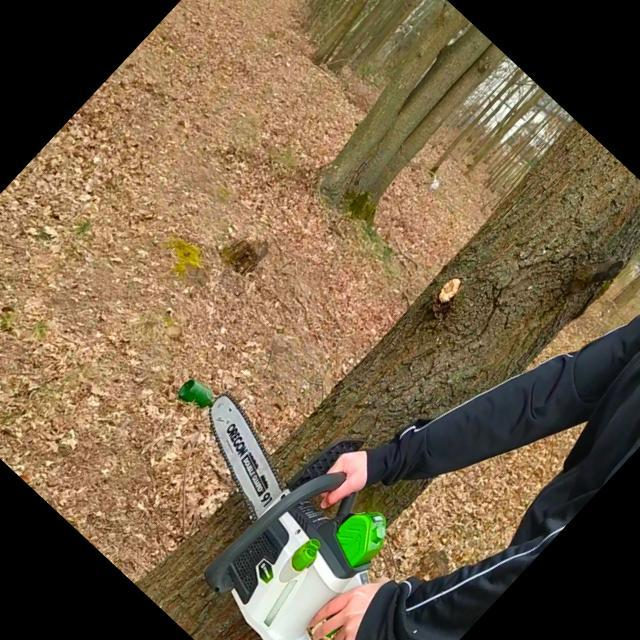Chainsaw: (89, 367, 468, 640)
